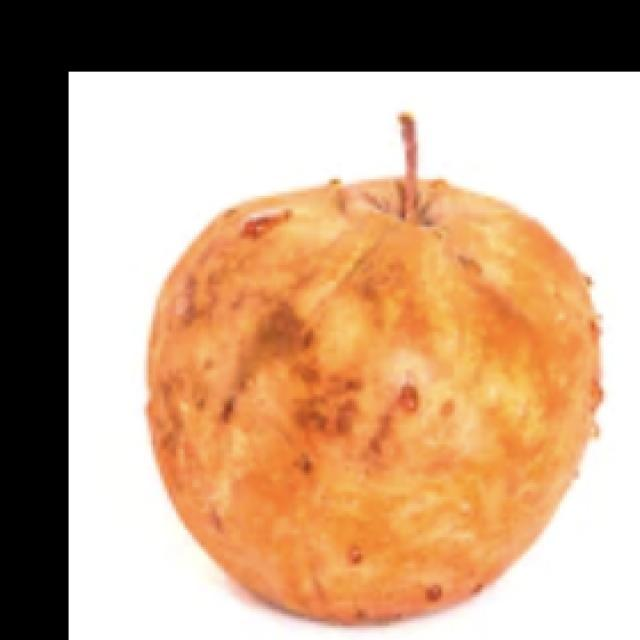Rotten: (168, 181, 601, 640)
